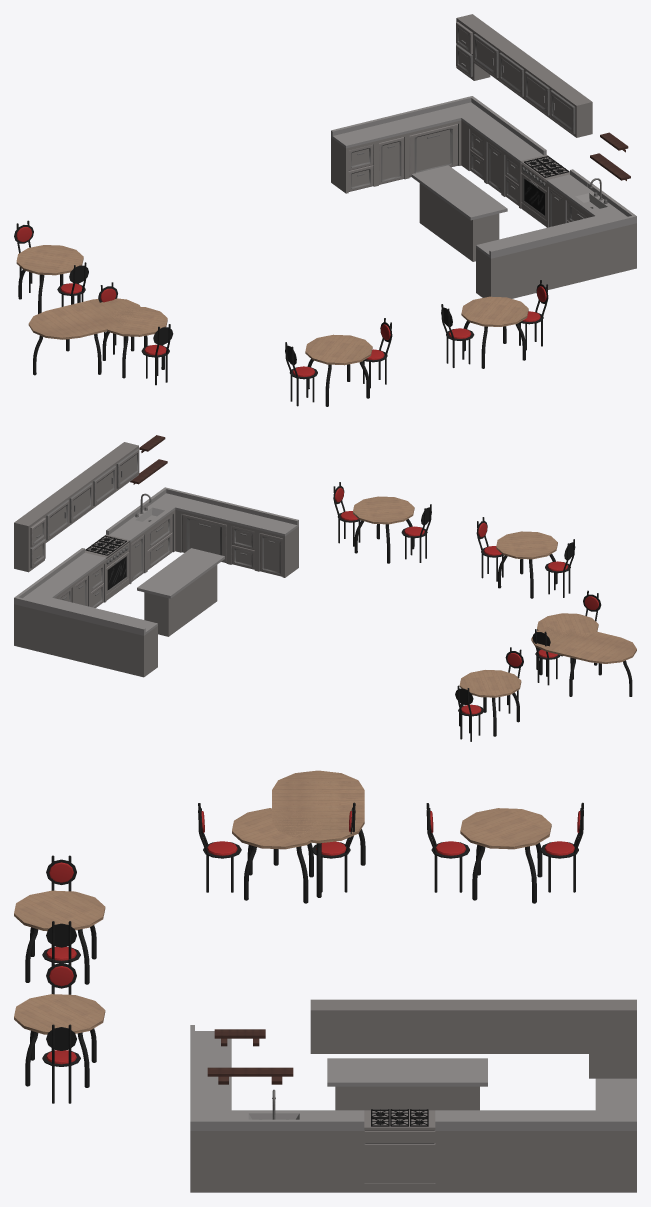
Rendered from muebles.obj.
3 views of the same model, one above another, from view 1: azimuth 30°, elevation 25°; view 2: azimuth 150°, elevation 25°; view 3: azimuth 270°, elevation 25° (orthographic). The views are drawn at different scales.
Parts seen in each view (by area): view 1: muebles_cocina; view 2: muebles_cocina; view 3: muebles_cocina.
Boxes of the visible parts, x1,y1,x2,y2 form: muebles_cocina: (14, 14, 636, 406); muebles_cocina: (14, 435, 636, 741); muebles_cocina: (14, 770, 636, 1192).
Bounding box in the file's own units: 54.78 × 13.14 × 39.08.
15 materials, 15 textured.
